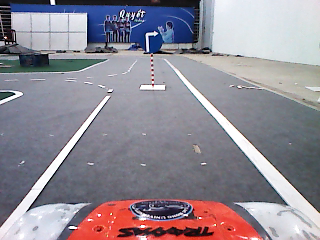turn: (138, 29, 164, 55)
